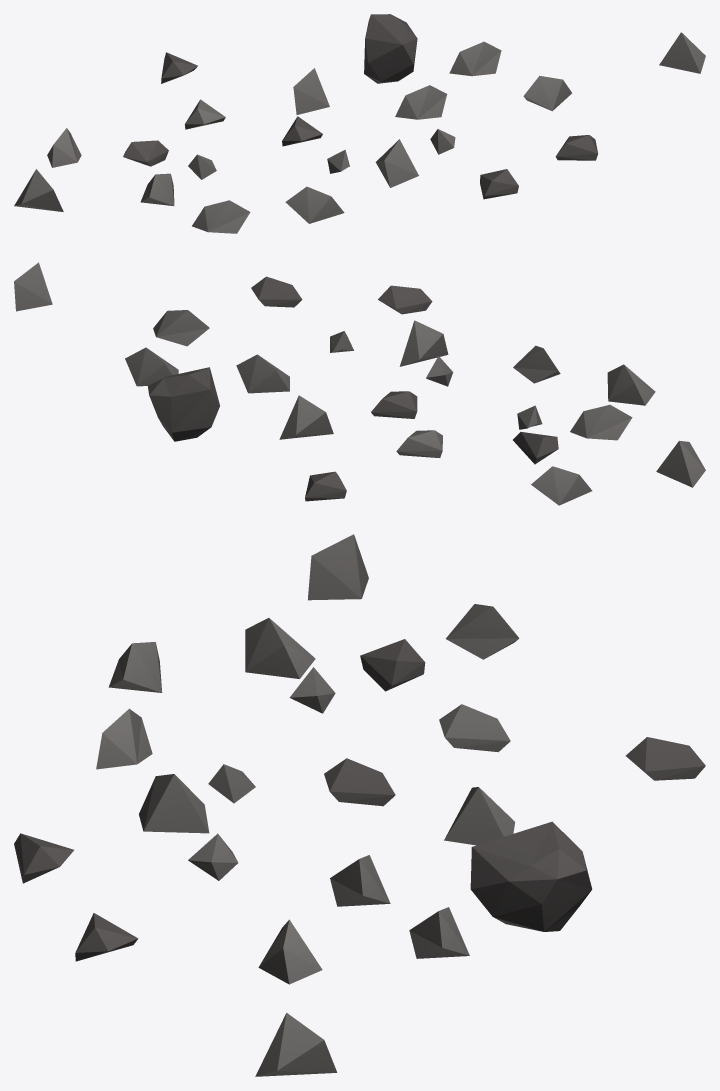
File: ZLPC_Rock_E_8.FBX
The picture shows the model from 3 angles, top to bottom: view 1: azimuth 30°, elevation 25°; view 2: azimuth 150°, elevation 25°; view 3: azimuth 270°, elevation 25°; orthographic projection. The views are drawn at different scales.
Parts seen in each view (by area): view 1: ZLPC_Rock_E_8; view 2: ZLPC_Rock_E_8; view 3: ZLPC_Rock_E_8.
Part boxes in pixels (x1=…): ZLPC_Rock_E_8: x1=14, y1=14, x2=705, y2=233; ZLPC_Rock_E_8: x1=14, y1=262, x2=705, y2=505; ZLPC_Rock_E_8: x1=14, y1=534, x2=705, y2=1076.
Size of the model in its own units: 460 by 42.46 by 264.
1 material, 1 textured.
